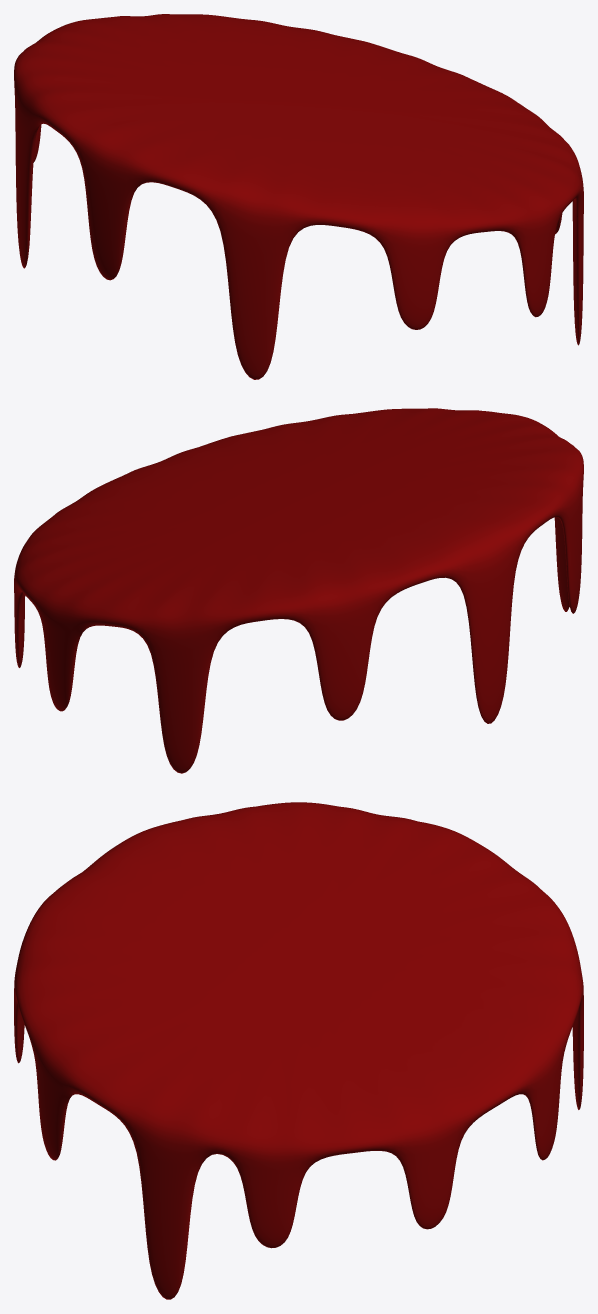
Rendered from Choco1.gltf.
The picture shows the model from 3 angles, top to bottom: view 1: azimuth 30°, elevation 25°; view 2: azimuth 150°, elevation 25°; view 3: azimuth 270°, elevation 25°; orthographic projection. The views are drawn at different scales.
Parts seen in each view (by area): view 1: Object_2; view 2: Object_2; view 3: Object_2.
Boxes of the visible parts, bbox=[...] form: Object_2: bbox=[14, 14, 583, 379]; Object_2: bbox=[14, 408, 583, 773]; Object_2: bbox=[14, 802, 583, 1299].
Bounding box in the file's own units: 160 × 90.2 × 165.
